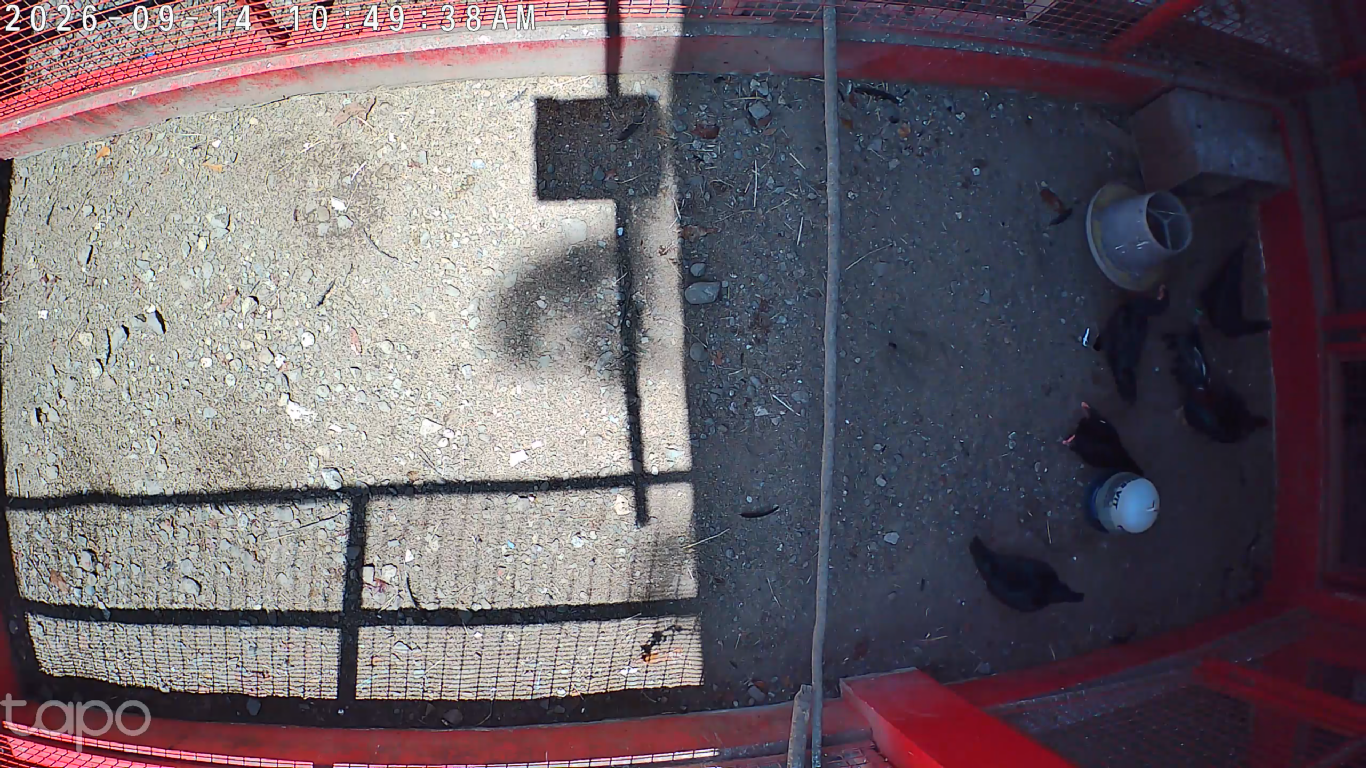Chicken: (966, 533, 1090, 613), (1056, 398, 1145, 477)
